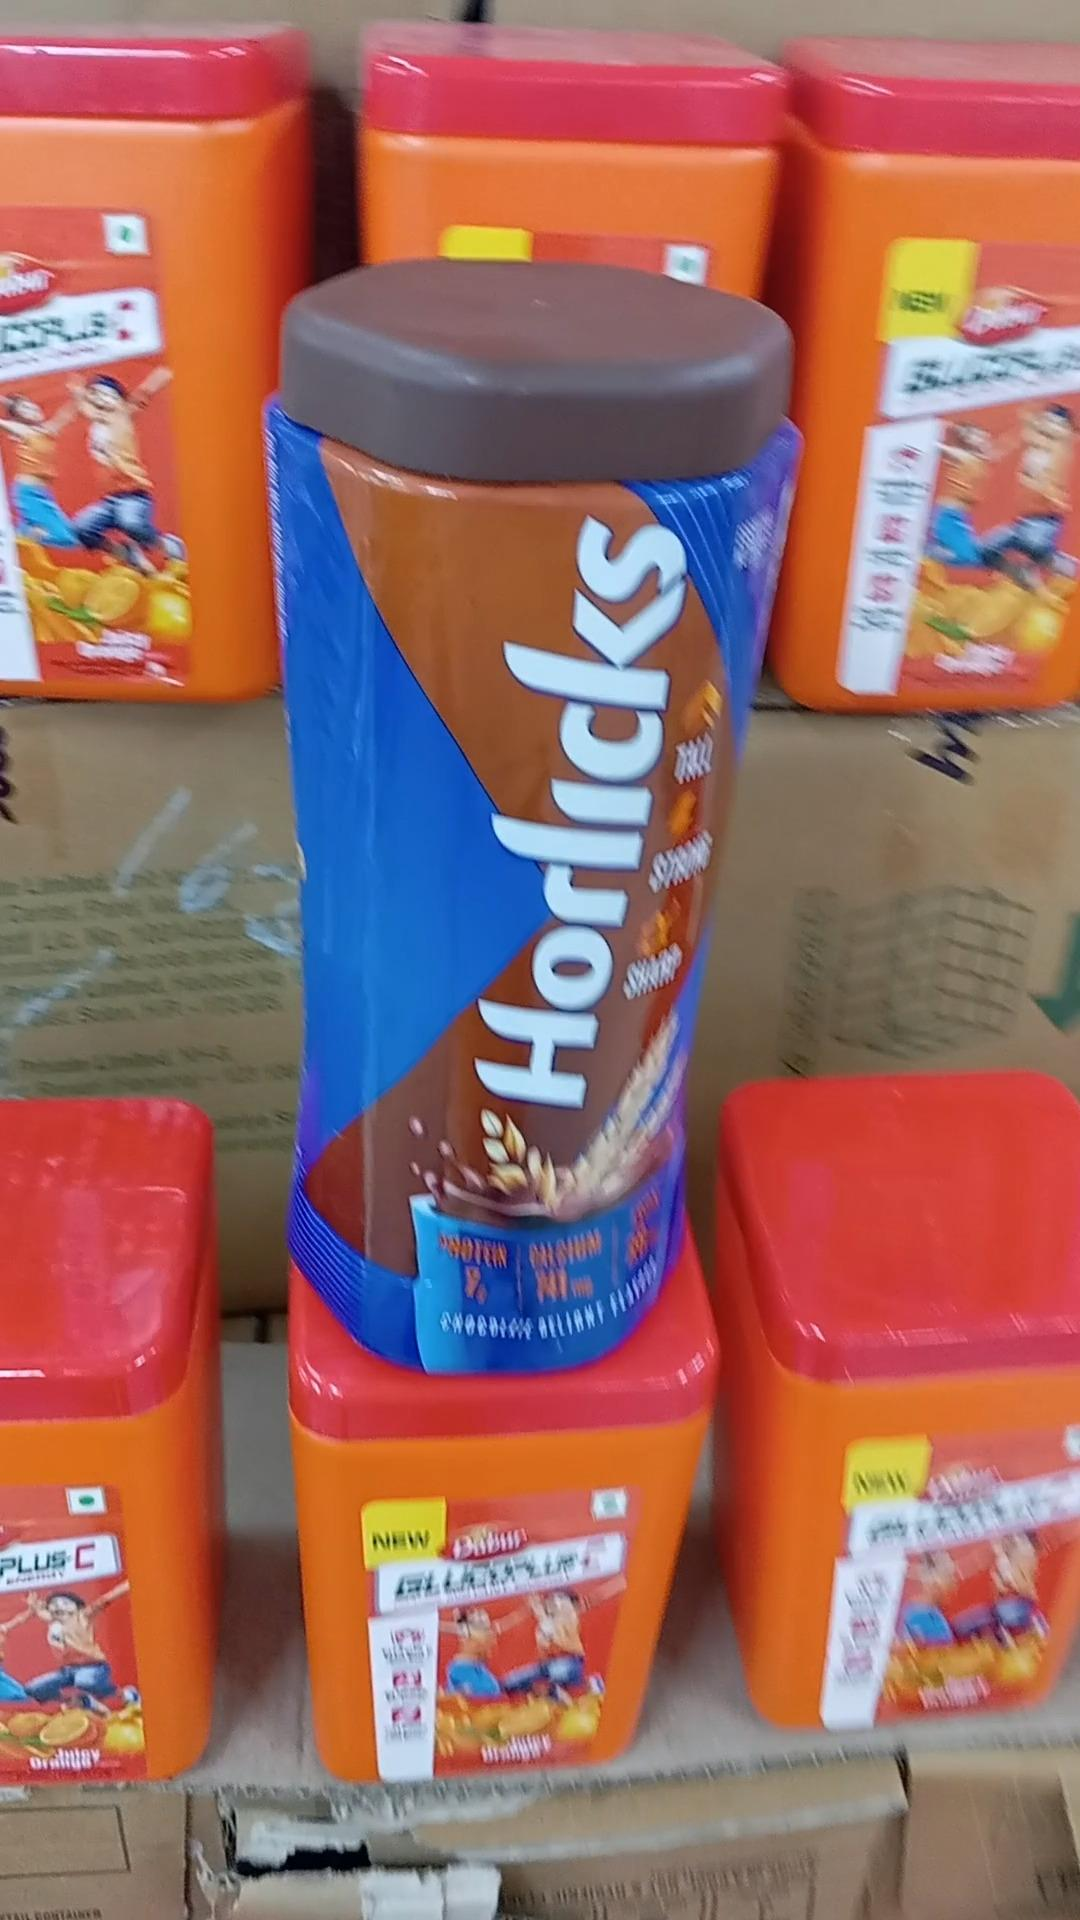HORLICK_CHOCOLATE_1_KG_JAR: (276, 252, 810, 1370)
